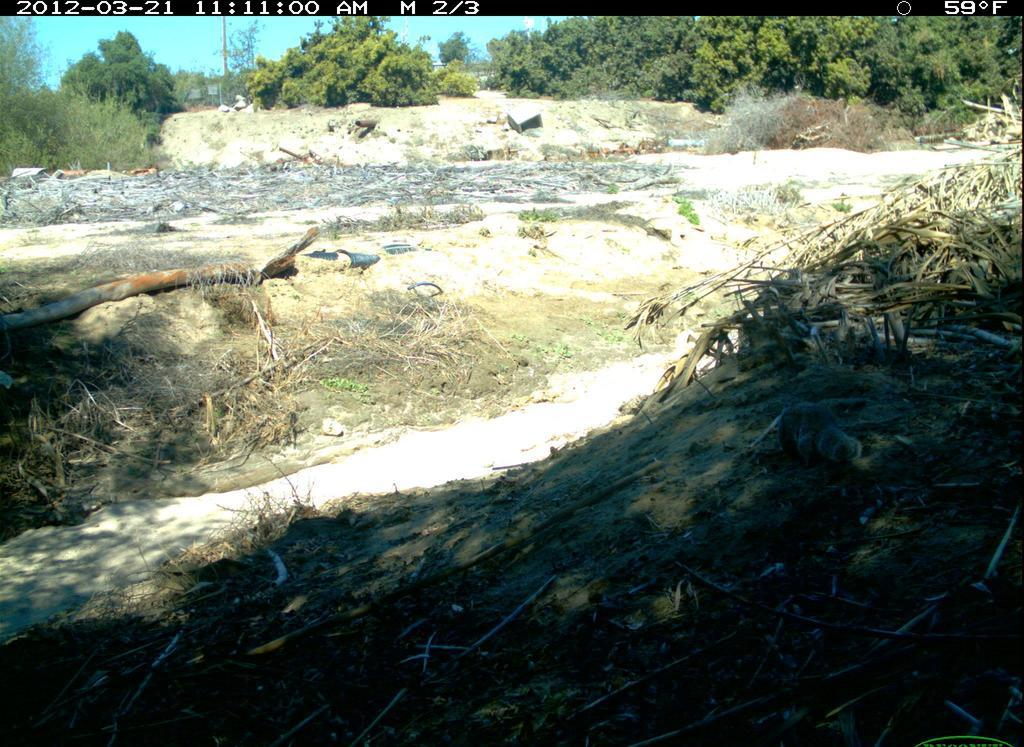squirrel: (767, 391, 879, 474)
